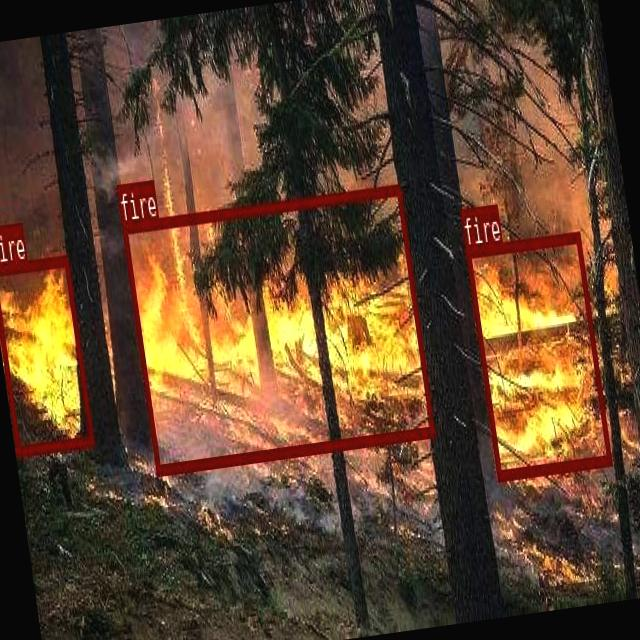fire: (120, 184, 436, 475), (464, 229, 611, 479), (0, 254, 93, 455)
